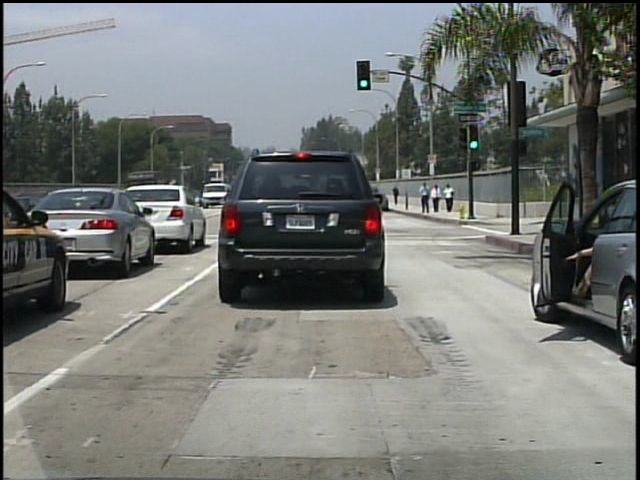person: (557, 201, 615, 330), (419, 180, 431, 214), (432, 182, 444, 213), (445, 183, 457, 213), (392, 185, 402, 206)
